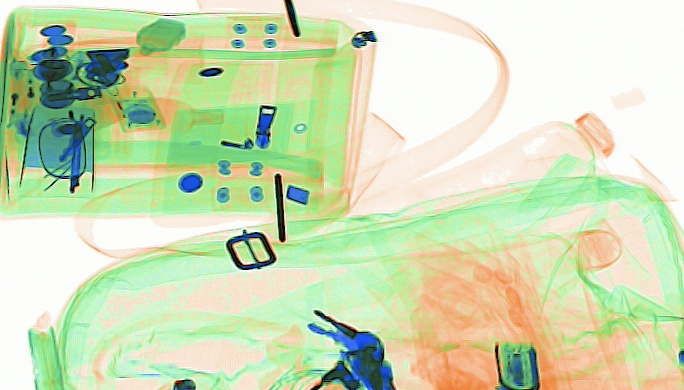lighter: (6, 56, 34, 138)
